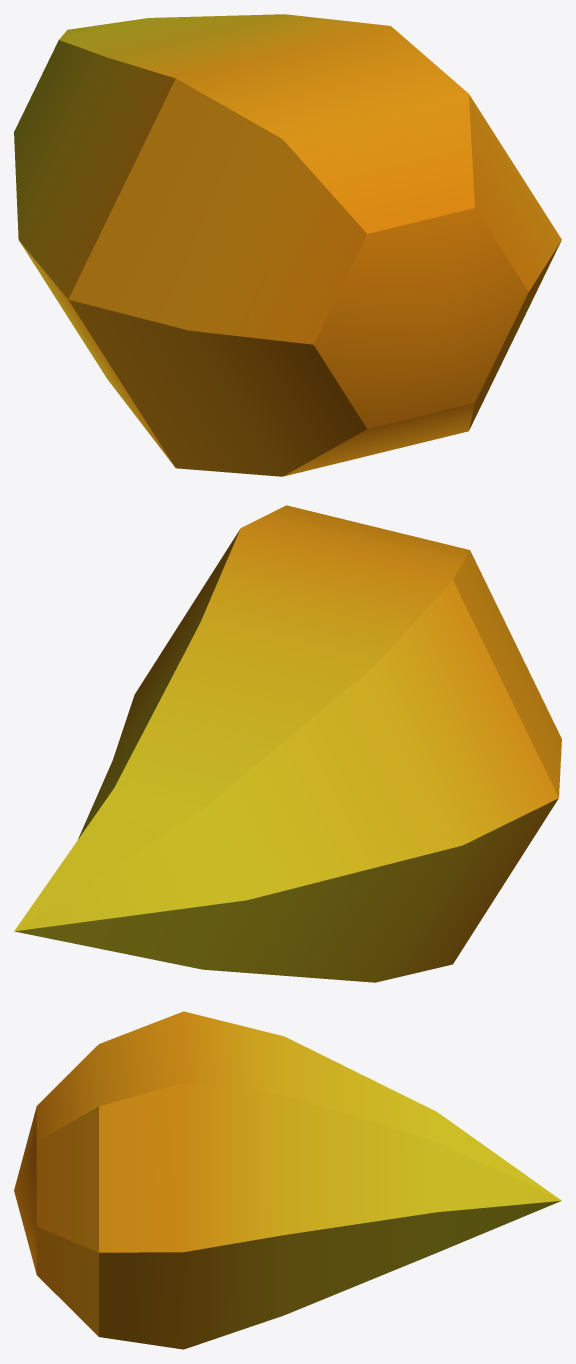
Rendered from HolidayCandleFlame.fbx.
The picture shows the model from 3 angles, top to bottom: view 1: azimuth 30°, elevation 25°; view 2: azimuth 150°, elevation 25°; view 3: azimuth 270°, elevation 25°; orthographic projection. The views are drawn at different scales.
Visible parts, largest first — view 1: HolidayCandleFlame; view 2: HolidayCandleFlame; view 3: HolidayCandleFlame.
Boxes of the visible parts, x1=… form: HolidayCandleFlame: x1=14, y1=14, x2=561, y2=476; HolidayCandleFlame: x1=14, y1=505, x2=561, y2=982; HolidayCandleFlame: x1=14, y1=1011, x2=561, y2=1349.
Bounding box in the file's own units: 8.64 × 7.46 × 13.9.
